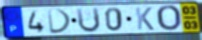0: (104, 7, 123, 33)
4: (27, 10, 46, 34)
D: (46, 8, 74, 35)
K: (134, 6, 156, 31)
O: (155, 4, 182, 32)
U: (75, 7, 102, 34)
